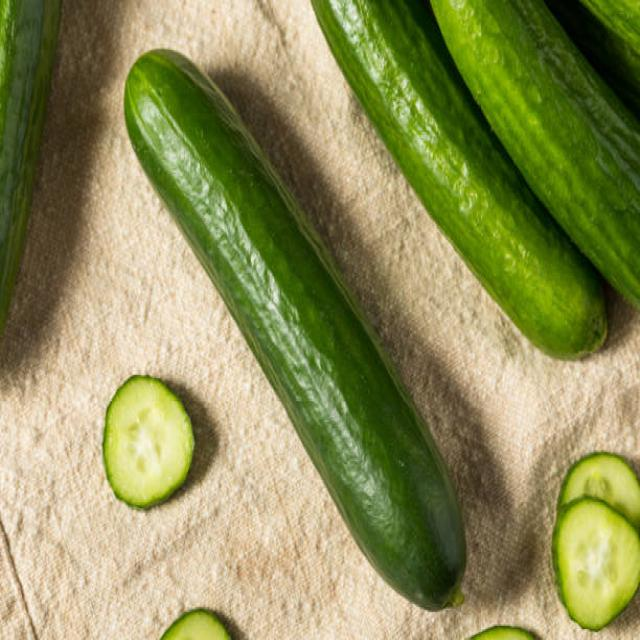cucumber: (122, 46, 468, 613)
